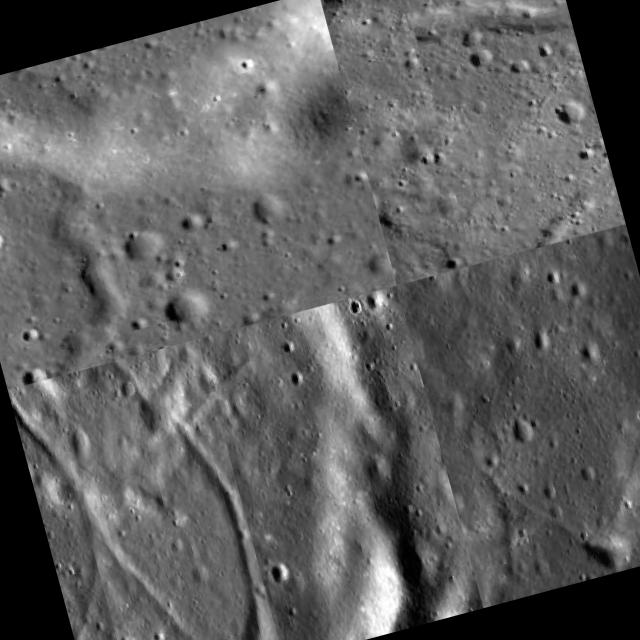rille: (47, 338, 284, 640), (400, 0, 623, 265), (469, 389, 640, 598), (2, 174, 141, 377)
